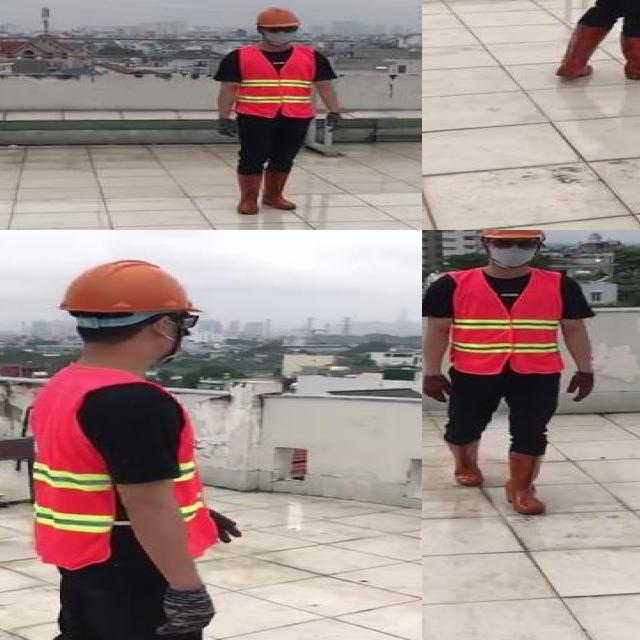boots: (555, 25, 609, 79), (506, 448, 547, 515), (441, 437, 483, 485), (260, 165, 300, 211), (235, 171, 268, 215), (614, 33, 640, 82)
face_mask: (488, 237, 538, 268), (261, 24, 297, 45)
glasses: (484, 236, 543, 252), (264, 24, 302, 35)
hand_glove: (160, 587, 214, 634), (206, 498, 241, 543), (563, 371, 595, 404), (422, 374, 455, 401), (215, 116, 238, 138), (324, 111, 340, 132)
head_helmet: (55, 254, 209, 317), (252, 6, 302, 28), (478, 230, 549, 240)
person: (18, 249, 297, 640), (422, 230, 602, 516), (205, 2, 348, 216)
vest: (28, 363, 133, 568), (448, 269, 563, 374), (172, 386, 215, 559), (232, 46, 318, 117)
